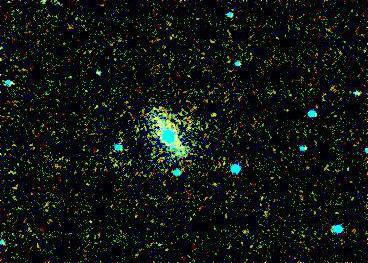star: (198, 100, 228, 130)
